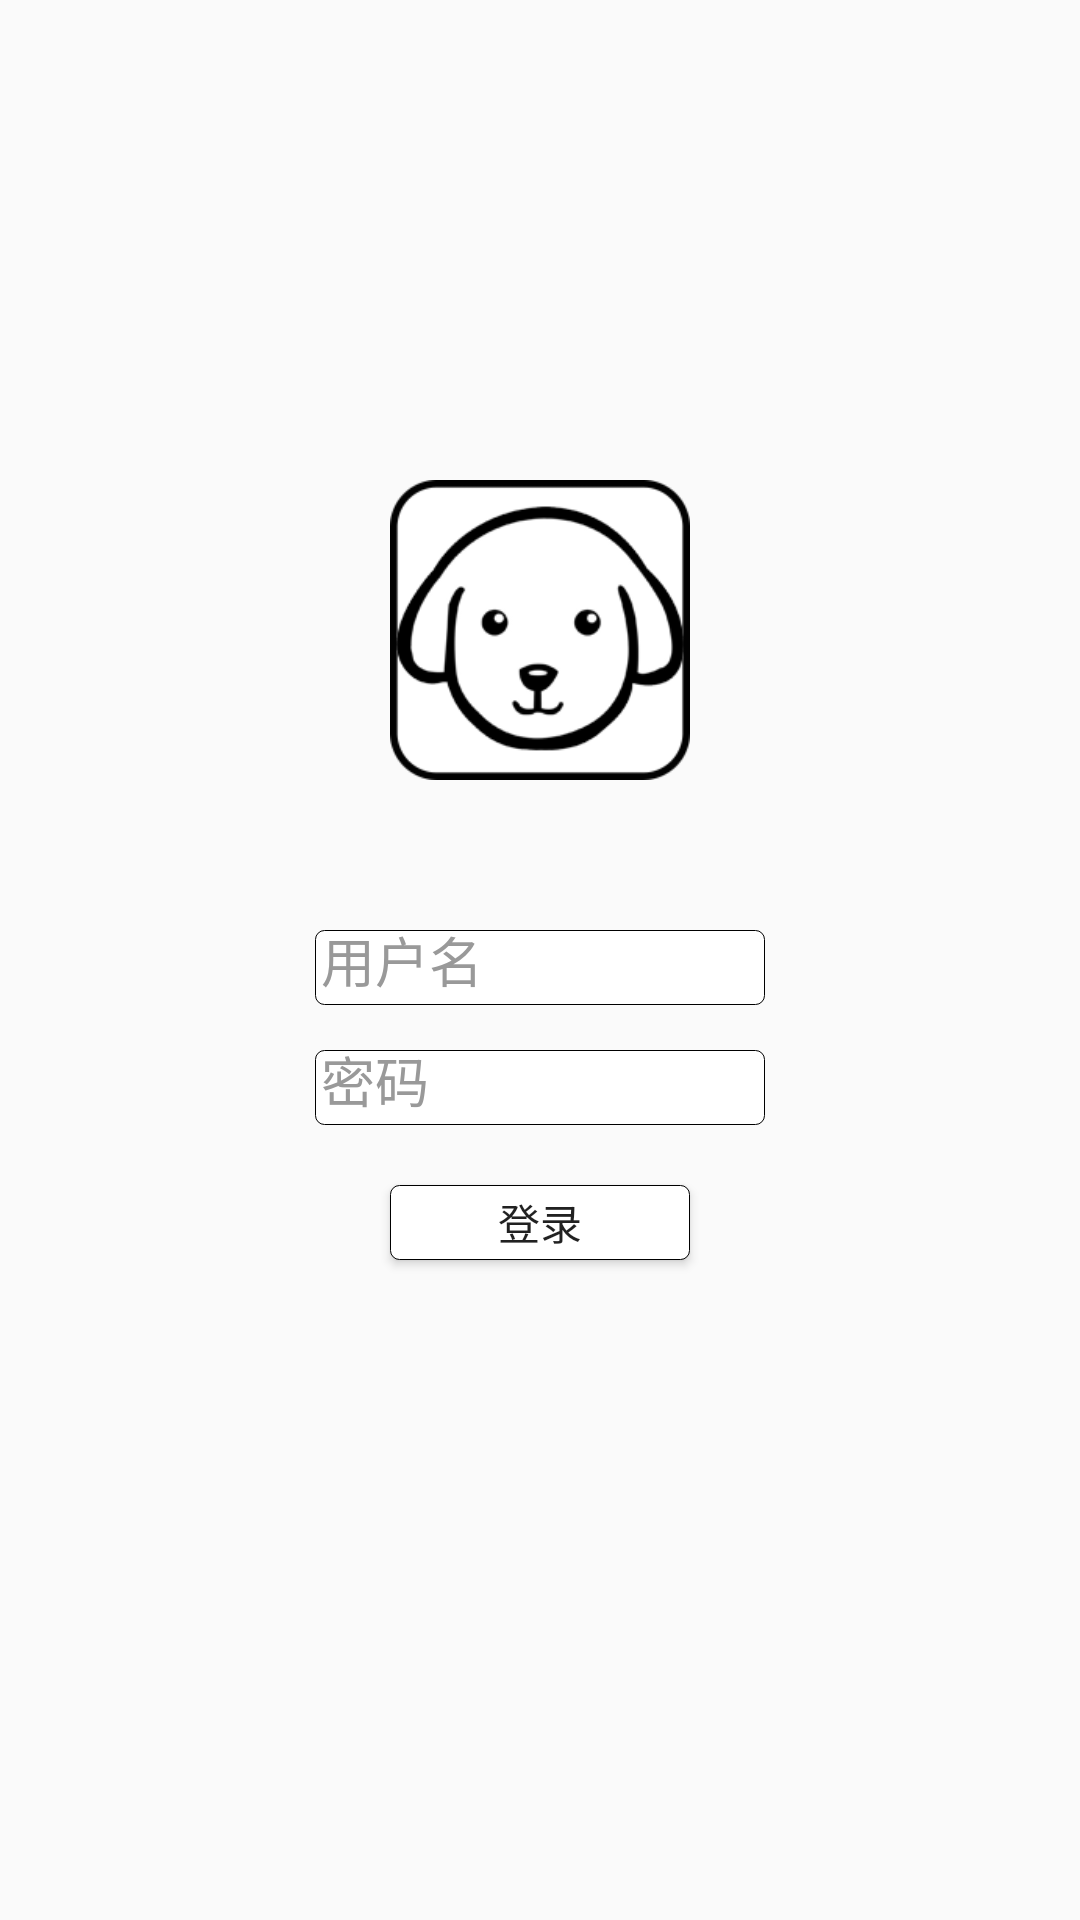

Icons on this 1080×1920 Android screen, each with the point to tap as (x=x, y=y):
dag: (x=540, y=630)
